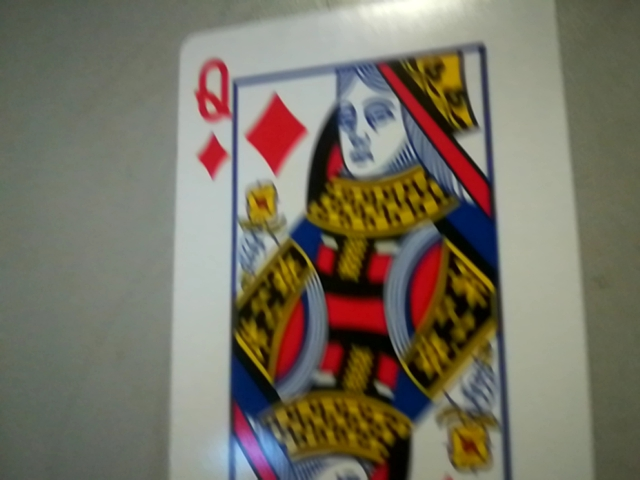fk q: (179, 51, 239, 182)
